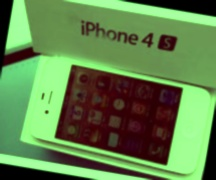iphone: (37, 67, 210, 162)
